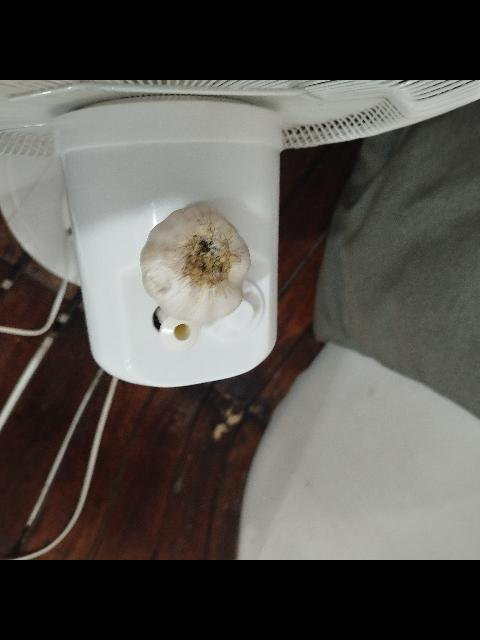garlic: (139, 205, 251, 325)
